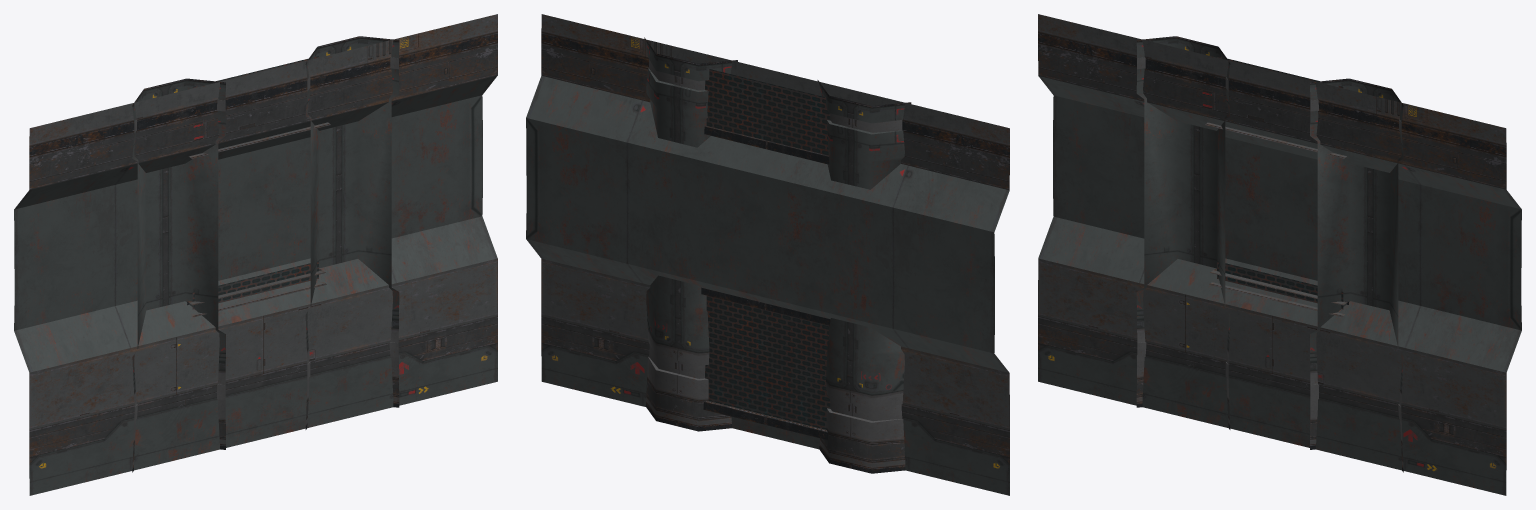
The model's file is ARC0910154.fbx.
3 views of the same model, side by side, from view 1: azimuth 30°, elevation 25°; view 2: azimuth 150°, elevation 25°; view 3: azimuth 330°, elevation 25° (orthographic).
Visible parts, largest first — view 1: smARC0910154; view 2: smARC0910154; view 3: smARC0910154.
Boxes of the visible parts, x1=… form: smARC0910154: x1=14, y1=14, x2=497, y2=495; smARC0910154: x1=526, y1=14, x2=1009, y2=495; smARC0910154: x1=1038, y1=14, x2=1521, y2=495.
Size of the model in its own units: 400 by 300 by 27.6.
Materials: 1 (1 with a texture image).
